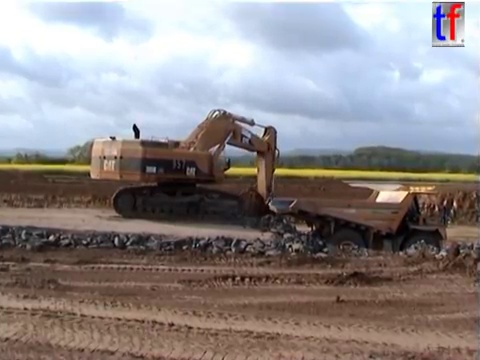excavator: (87, 107, 292, 245)
truck: (264, 183, 457, 271)
